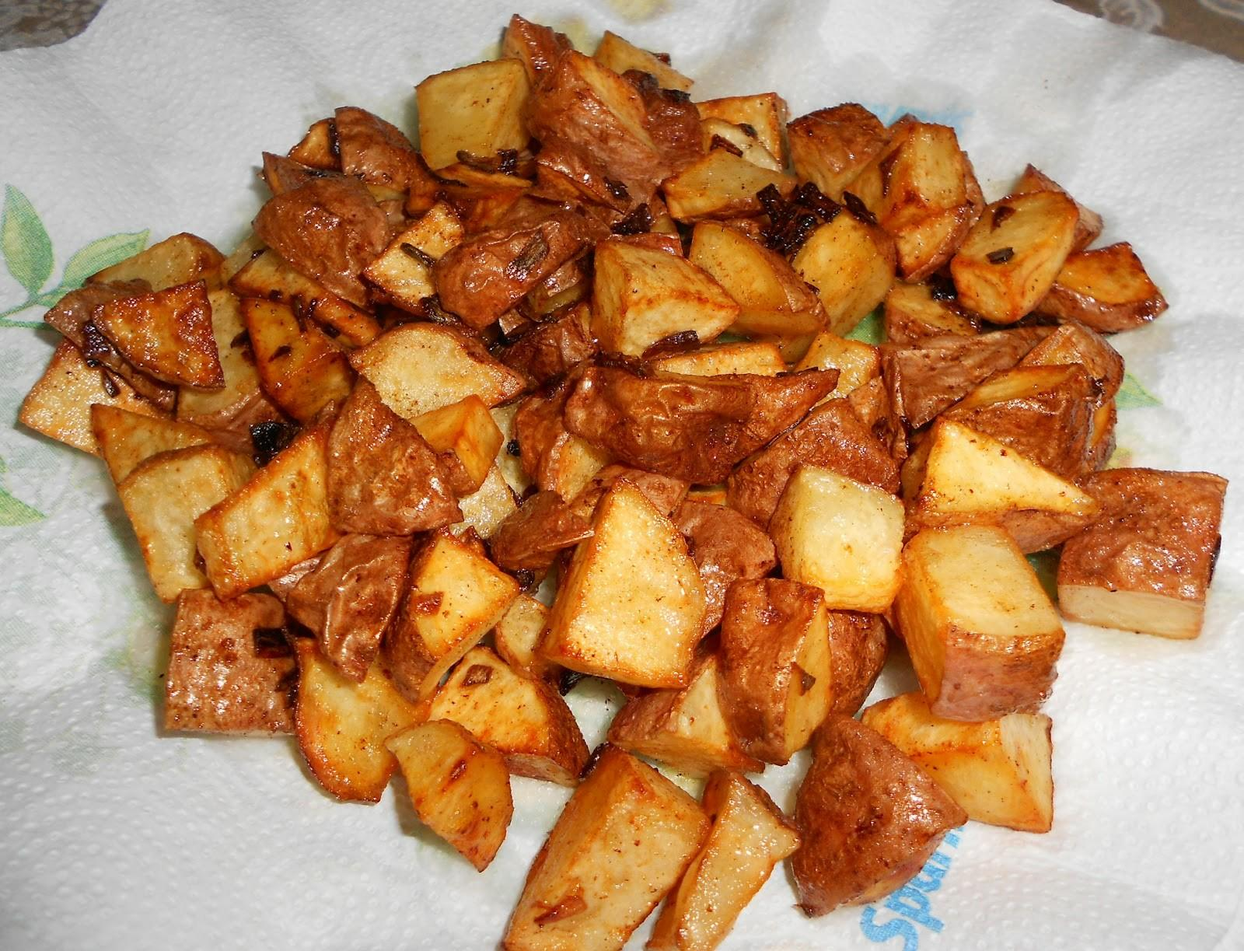AlooMasala: (18, 11, 1230, 950)
